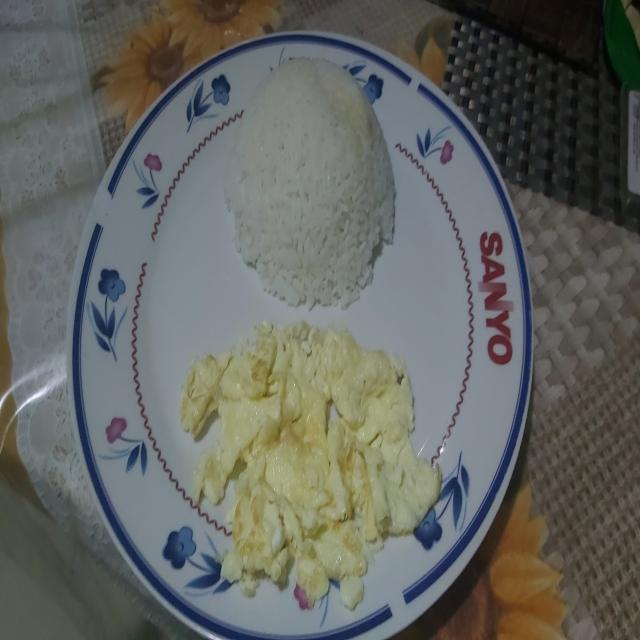Chicken -Chicken Inasal-: (226, 55, 398, 301)
